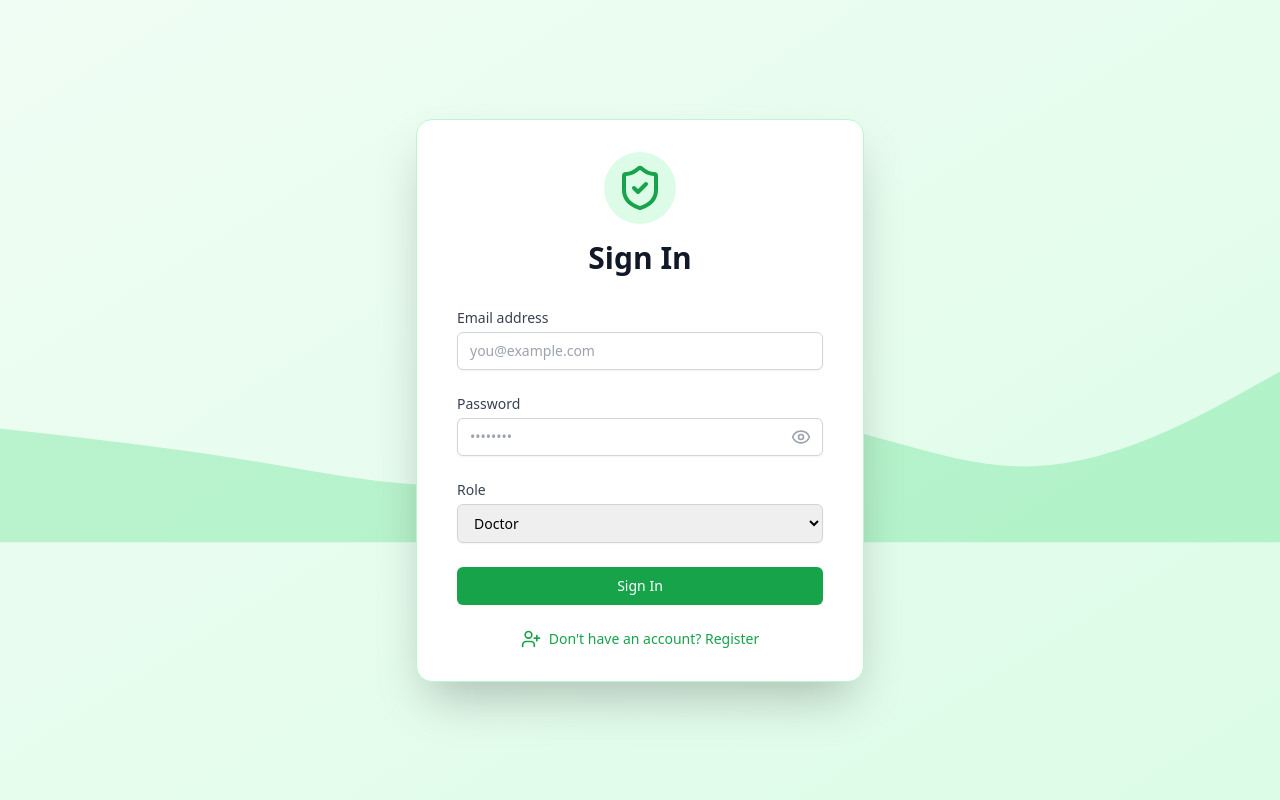
Scenario: SignIn Component - Comprehensive Test Suite › UI Rendering › switches between sign in and register modes
Check: the heading "Sign In" is shown, box [588,240,692,276]
// Switch to register mode
Click the button "Don't have an account? Register".
click(640, 638)  # box [457,628,823,648]
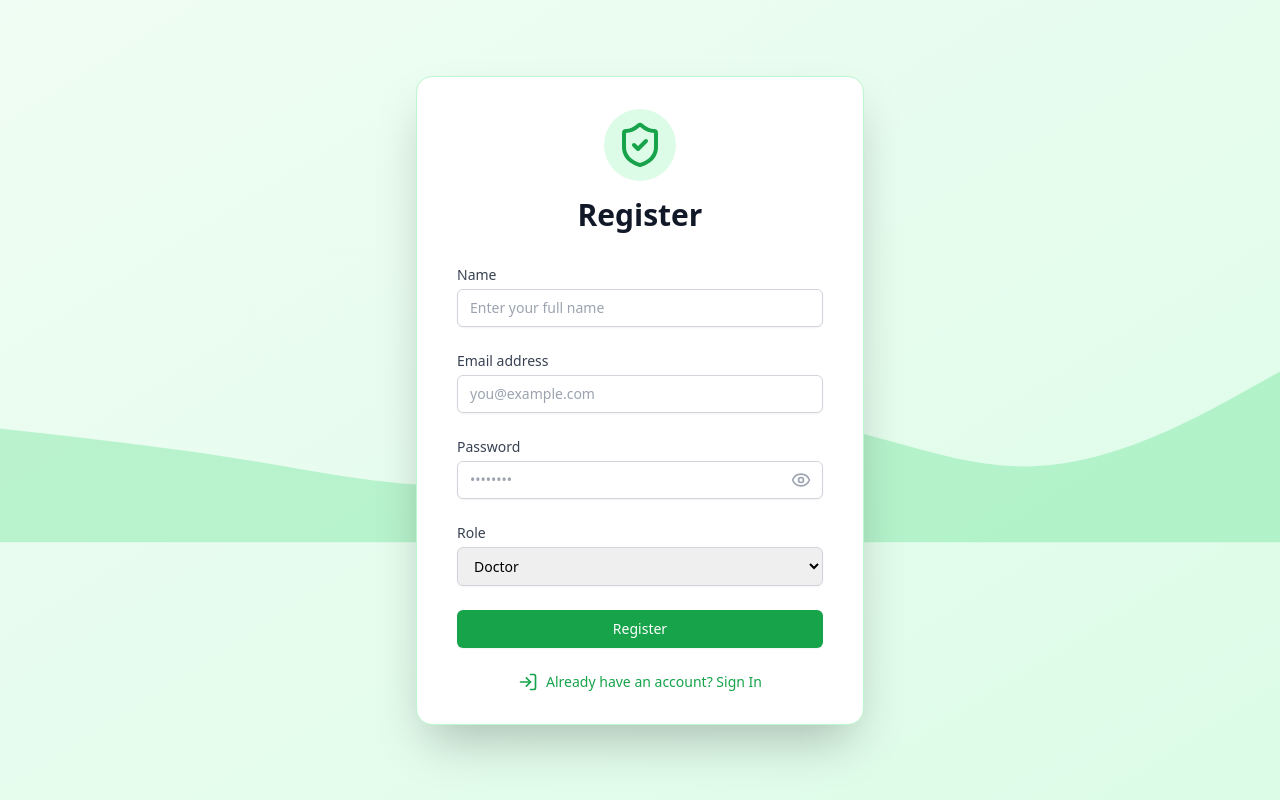
Check: the heading "Register" is shown, box [578,196,702,232]
Check: the field labelled "Name" is shown, box [457,288,823,326]
